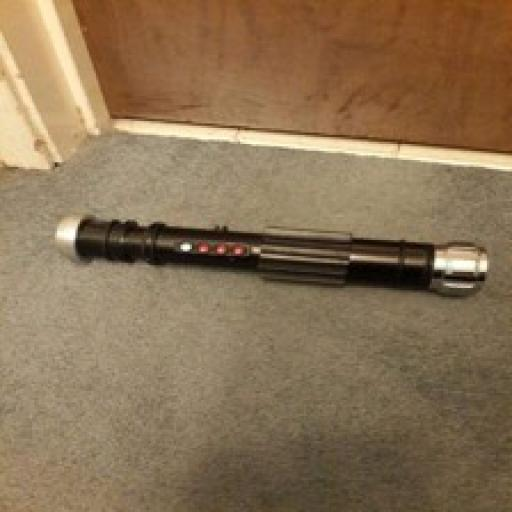lightsaber: (50, 206, 492, 300)
